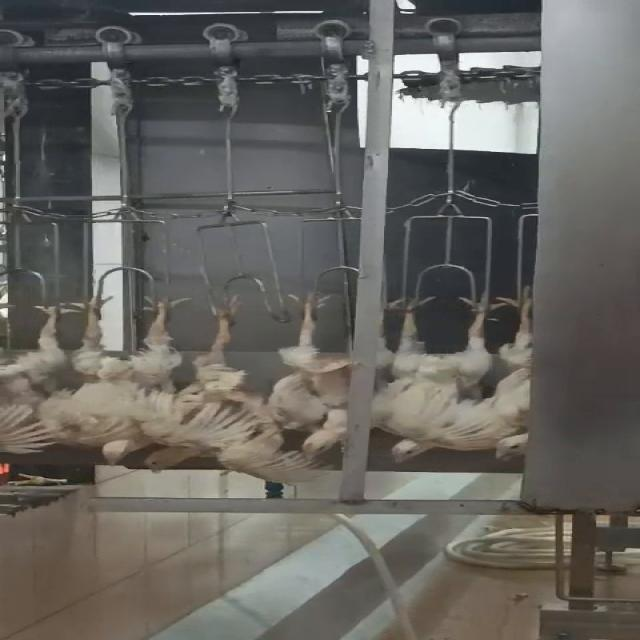chicken: (68, 296, 208, 476), (372, 291, 496, 463), (201, 297, 293, 473), (0, 292, 88, 457), (278, 286, 358, 458), (480, 274, 544, 464)
